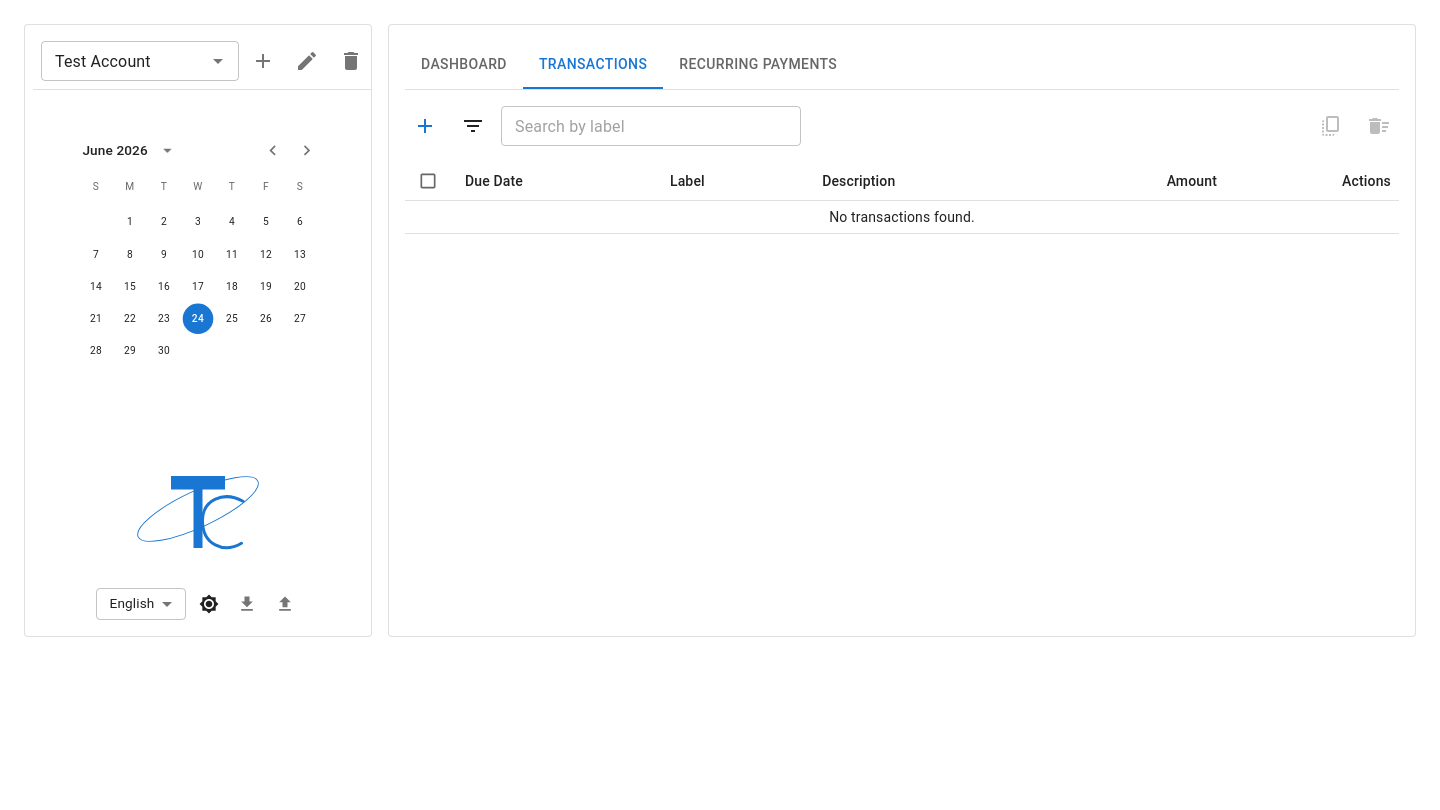
TransactionEditionArea › opens TransactionEditor in create mode when "Create" button is clicked
Click the button named "create transaction": (425, 126) [405, 106, 445, 146]
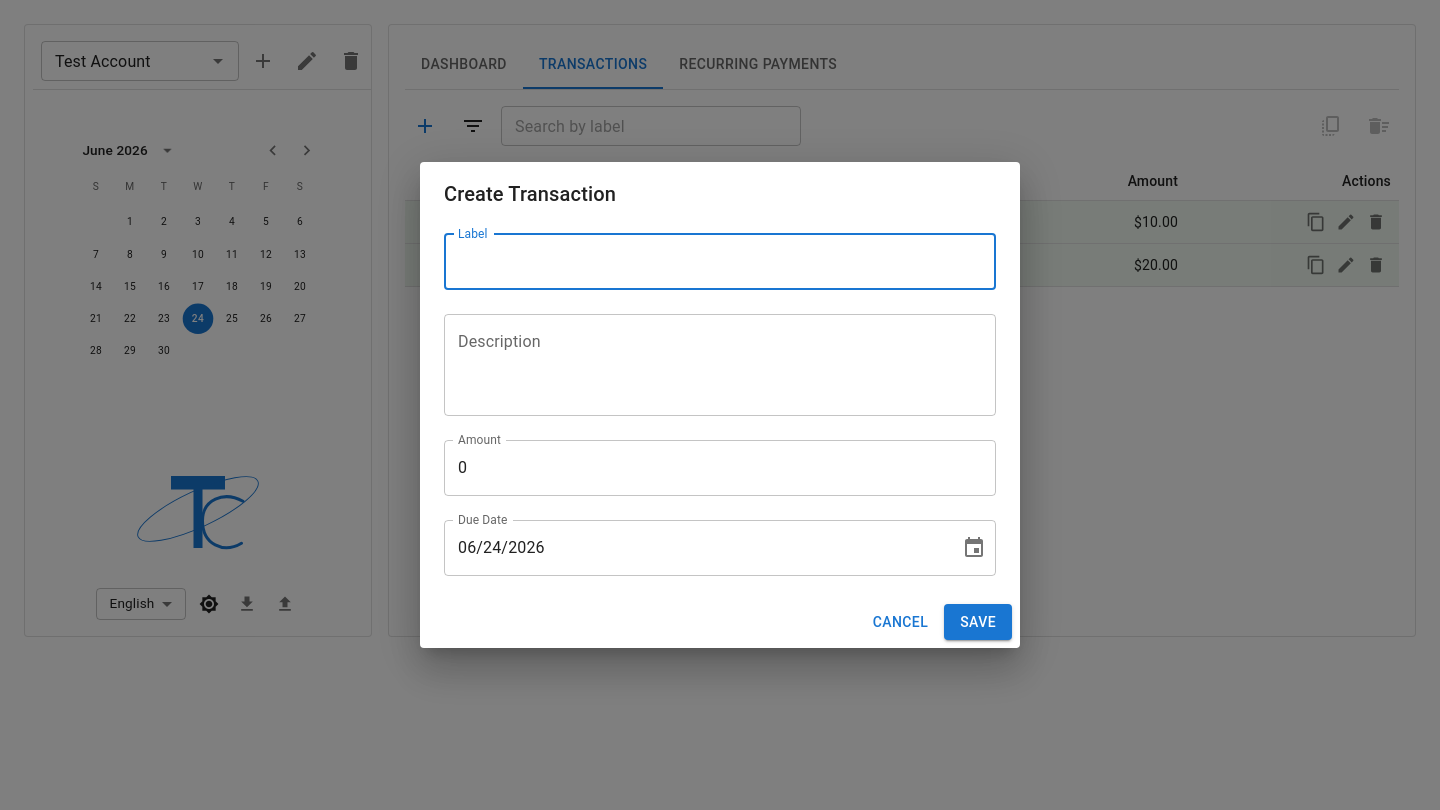
Expected: the heading "Create Transaction" is shown, [444, 182, 616, 206]
